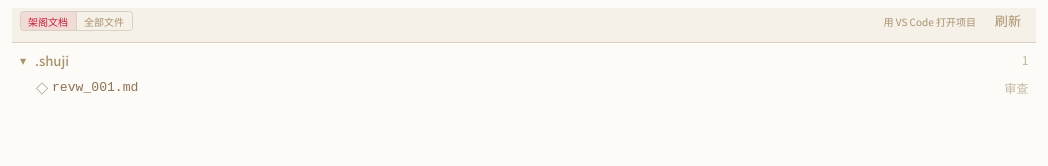
Test: DocTree › shows all files when toggled
Expected: the text "revw_001.md" is shown, x1=52 y1=78 x2=138 y2=98
What coordinates should you click on to do the following:
click the button "全部文件"
I would click on:
 (104, 21)
Its box is x1=76 y1=12 x2=132 y2=30.
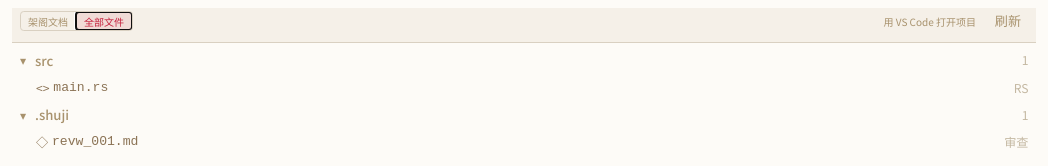
Now the text "main.rs" is shown, box x1=53 y1=78 x2=108 y2=98
